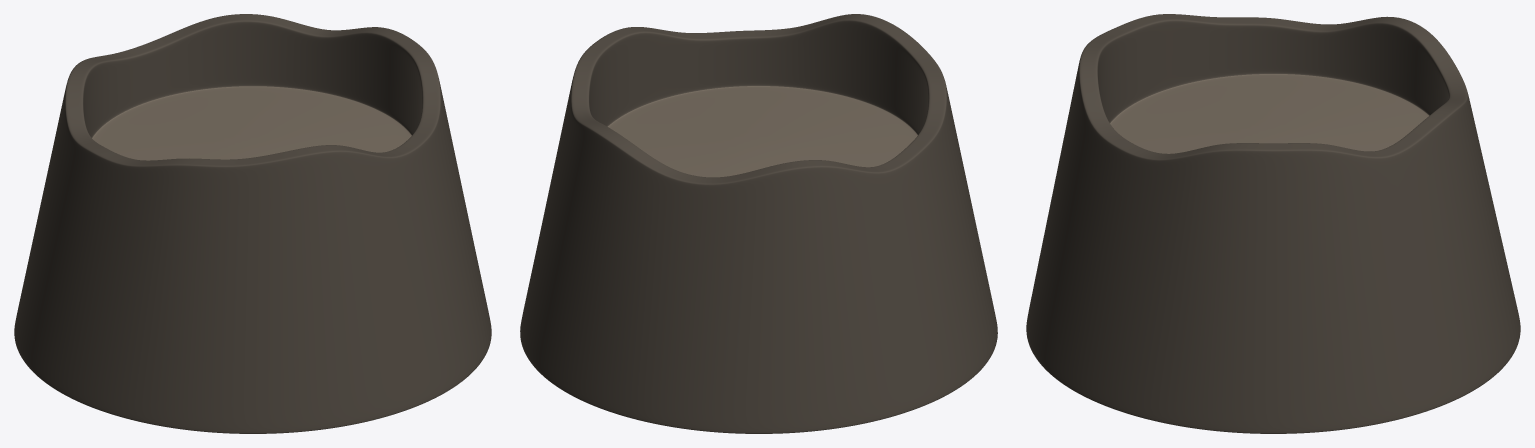
File: stump.fbx
The picture shows the model from 3 angles, left to right: view 1: azimuth 30°, elevation 25°; view 2: azimuth 150°, elevation 25°; view 3: azimuth 270°, elevation 25°; orthographic projection. The views are drawn at different scales.
Parts seen in each view (by area): view 1: stump; view 2: stump; view 3: stump.
Boxes of the visible parts, x1,y1,x2,y2 form: stump: (14, 14, 491, 433); stump: (520, 14, 997, 433); stump: (1026, 14, 1520, 433).
Size of the model in its own units: 6.47 by 3.81 by 6.47.
